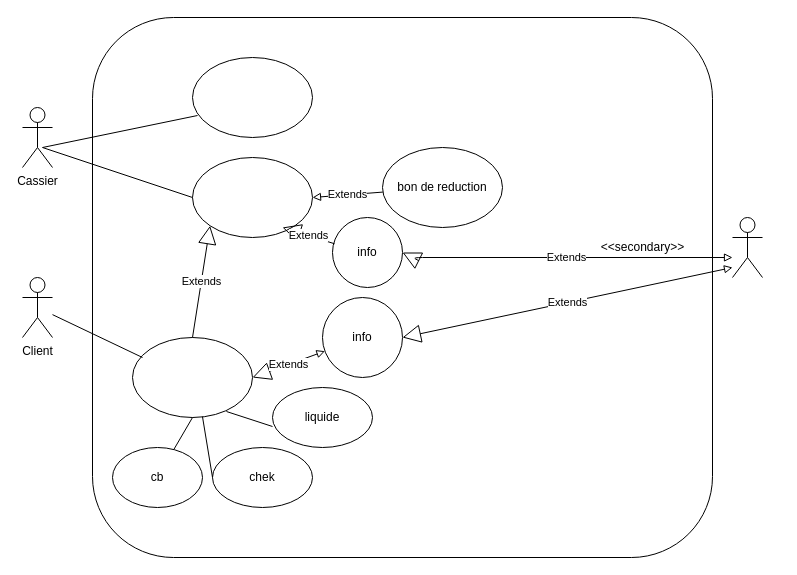
This 797x575 diagram has some shape labels left out. Each missing label, with the box of its shape:
Enrigestrer article: (192, 56, 312, 138)
gestionnaire de stock: (732, 216, 762, 278)
paiment: (132, 336, 252, 418)
Segnalation fin de vente: (192, 156, 312, 238)
